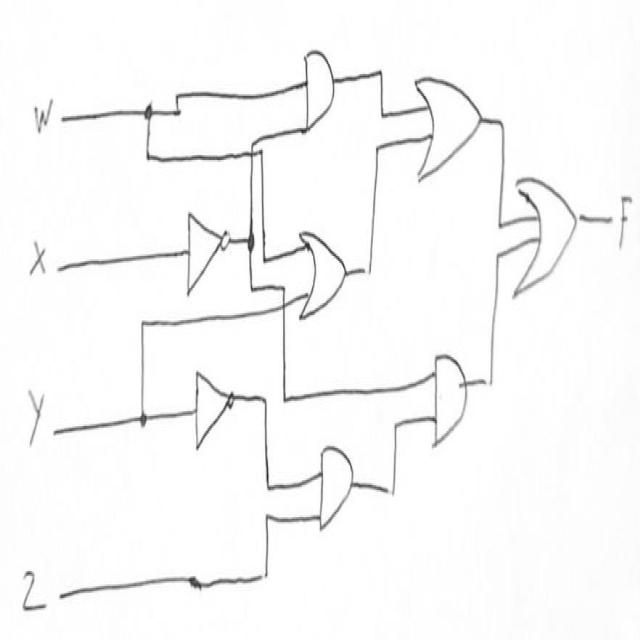AND: (425, 326, 480, 453), (312, 424, 368, 540), (300, 39, 340, 140)
NOT: (181, 198, 236, 300), (189, 362, 245, 454)
OR: (407, 58, 486, 200), (514, 156, 582, 306), (293, 213, 356, 343)
